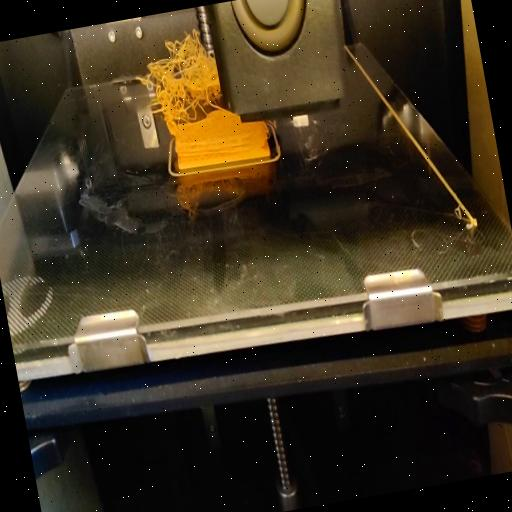spaghetti: (130, 21, 225, 131)
